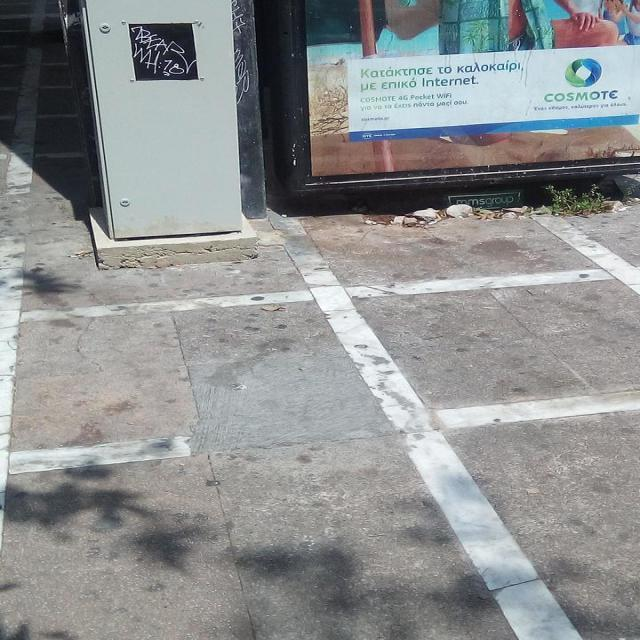nonspitting: (132, 26, 196, 76)
